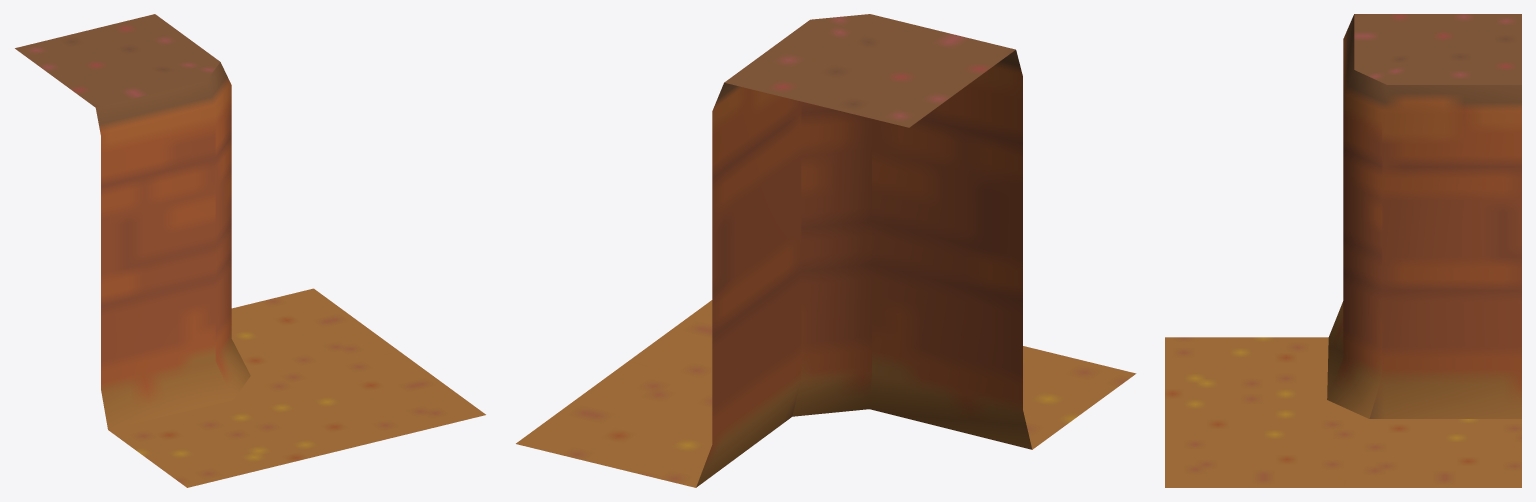
The model's file is canion_corner_v01.fbx.
The picture shows the model from 3 angles, left to right: view 1: azimuth 30°, elevation 25°; view 2: azimuth 150°, elevation 25°; view 3: azimuth 270°, elevation 25°; orthographic projection. The views are drawn at different scales.
Parts seen in each view (by area): view 1: canion_corner_v01; view 2: canion_corner_v01; view 3: canion_corner_v01.
Part boxes in pixels (left/top/right/bottom): canion_corner_v01: left=15, top=14, right=485, bottom=487; canion_corner_v01: left=516, top=14, right=1136, bottom=487; canion_corner_v01: left=1165, top=14, right=1521, bottom=487.
Bounding box in the file's own units: 400 × 400 × 400.
